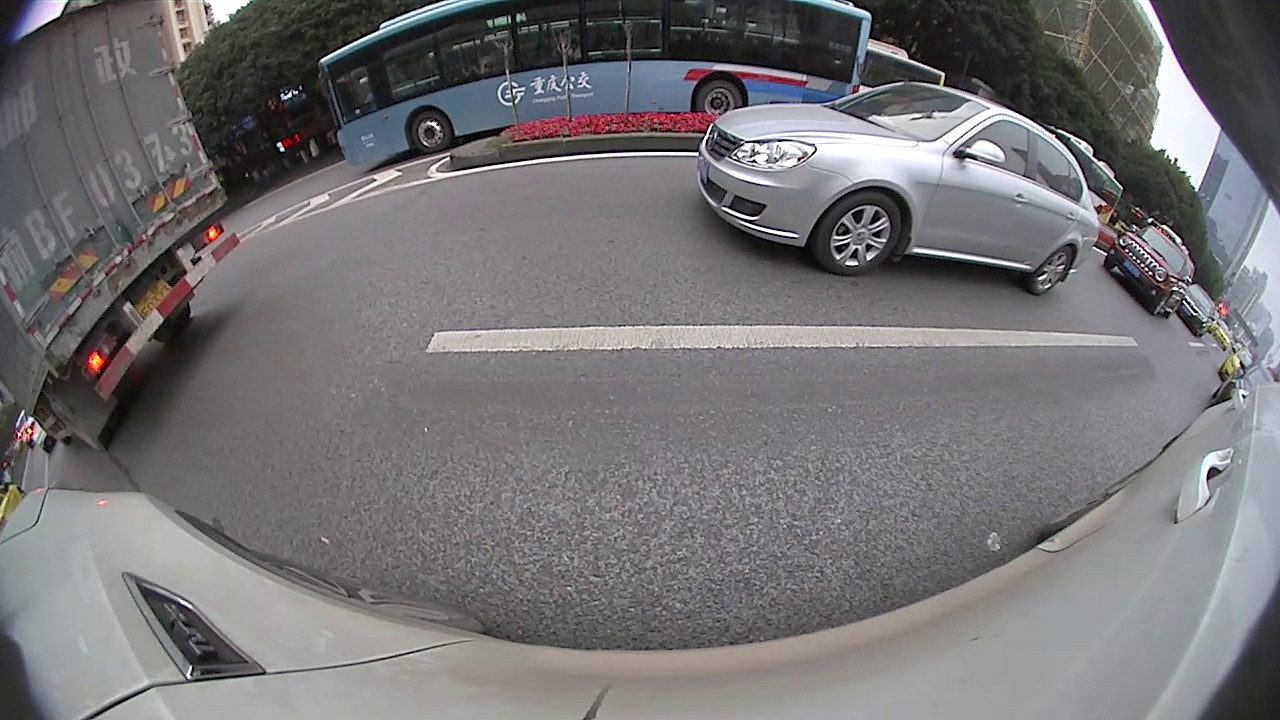bus: (316, 3, 872, 180), (1039, 127, 1128, 222), (864, 37, 946, 90)
car: (698, 80, 1103, 297), (1104, 222, 1198, 317), (1179, 286, 1219, 338)
front: (809, 189, 902, 276), (411, 110, 452, 154)
rear: (1025, 245, 1073, 296), (694, 80, 743, 115)
truck: (1, 2, 239, 454)
